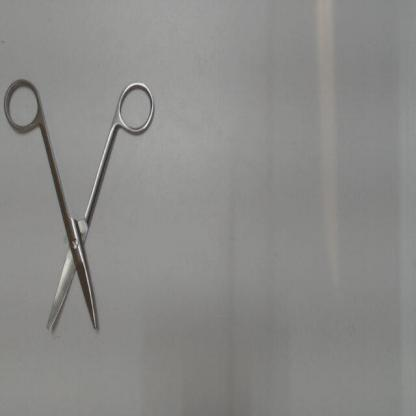Curved Mayo Scissors: (2, 71, 162, 338)
